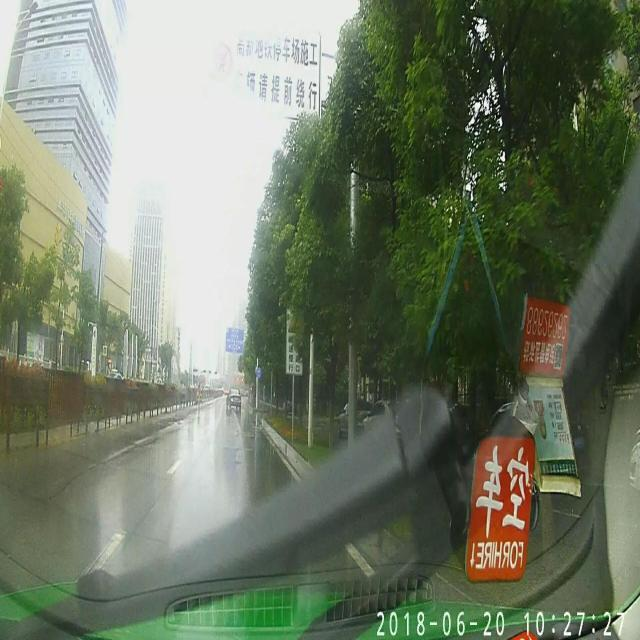car: (226, 388, 240, 408)
